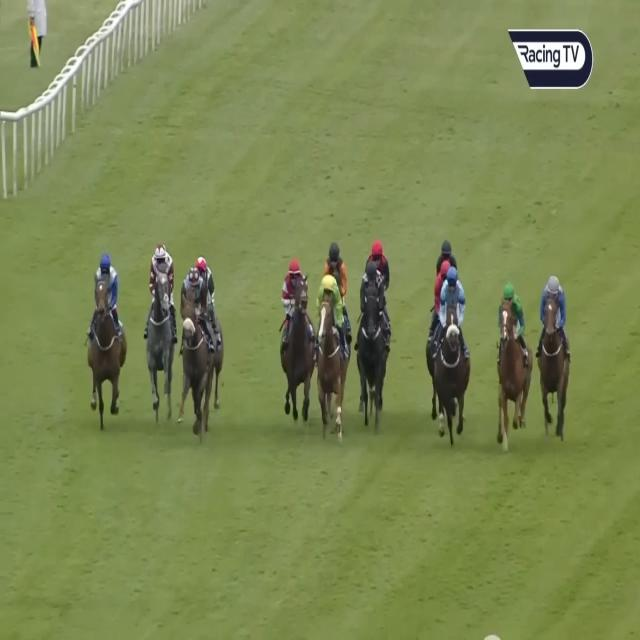horses-racing: (277, 250, 317, 420), (311, 270, 351, 436), (90, 252, 126, 434), (177, 270, 219, 423), (494, 278, 530, 444), (145, 245, 180, 410), (436, 266, 465, 456), (356, 263, 390, 423), (539, 274, 568, 431), (193, 250, 221, 321), (365, 235, 394, 303), (429, 258, 452, 334), (324, 242, 347, 303), (433, 234, 459, 273)
